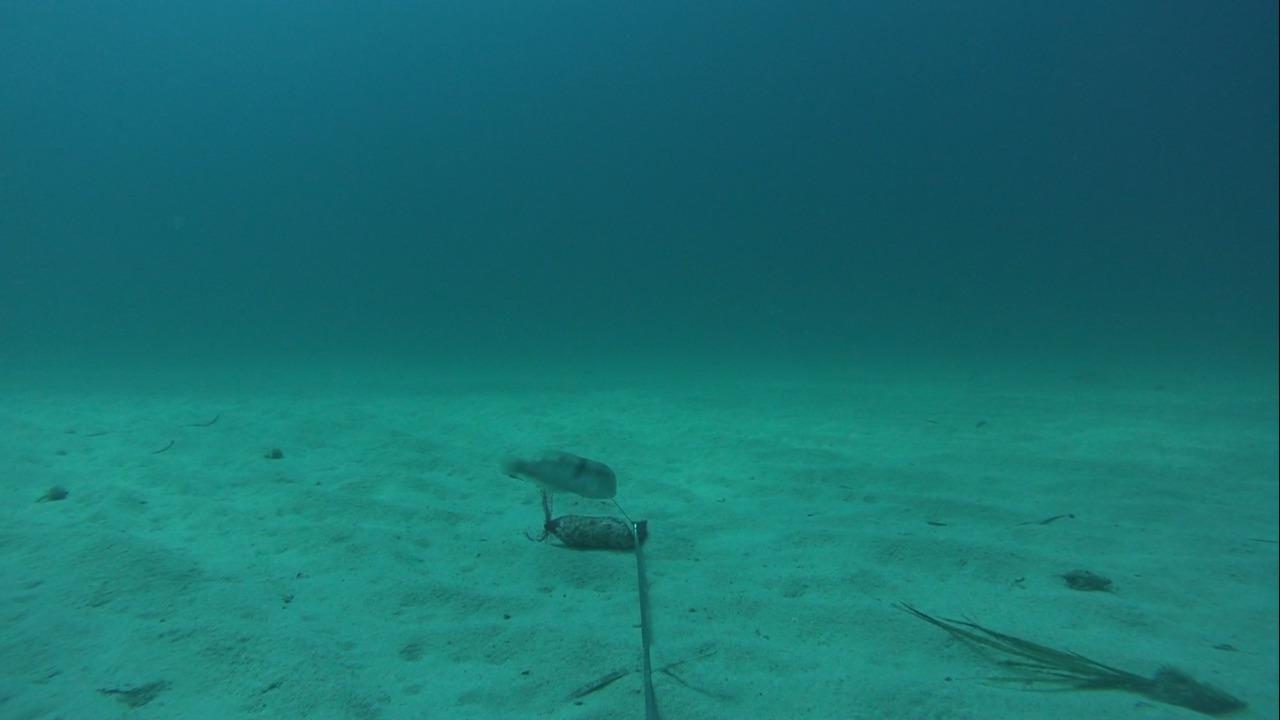raor: (499, 446, 617, 503)
